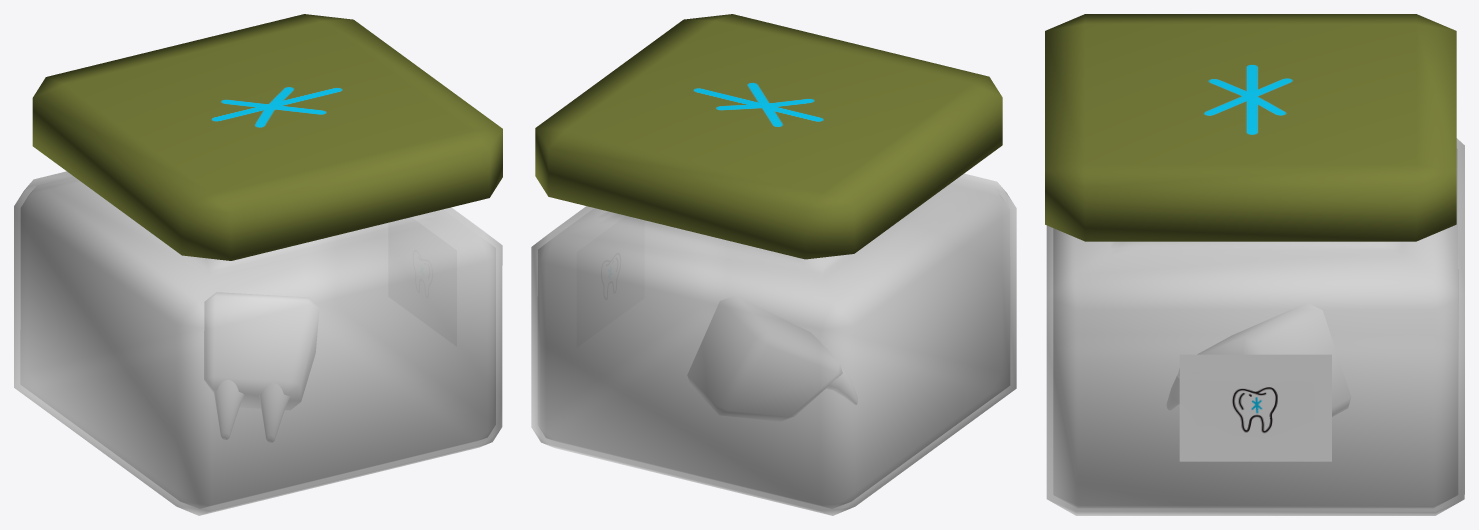
File: tooth1.fbx
3 renders of one model, left to right at view 1: azimuth 30°, elevation 25°; view 2: azimuth 150°, elevation 25°; view 3: azimuth 270°, elevation 25°, orthographic. The views are drawn at different scales.
Parts seen in each view (by area): view 1: Jar, Cap, Tooth; view 2: Jar, Cap, Tooth; view 3: Jar, Cap, Label, Tooth.
Boxes of the visible parts, box(x1,y1,x2,y2) form: Jar: box(14, 171, 502, 515); Cap: box(32, 14, 502, 260); Tooth: box(204, 292, 319, 442); Jar: box(531, 173, 1016, 515); Cap: box(535, 14, 1002, 259); Tooth: box(687, 296, 857, 421); Jar: box(1046, 138, 1464, 515); Cap: box(1045, 14, 1456, 241); Label: box(1179, 354, 1331, 461); Tooth: box(1167, 303, 1350, 416).
Size of the model in its own units: 323 by 294 by 320.
4 materials, 3 textured.
